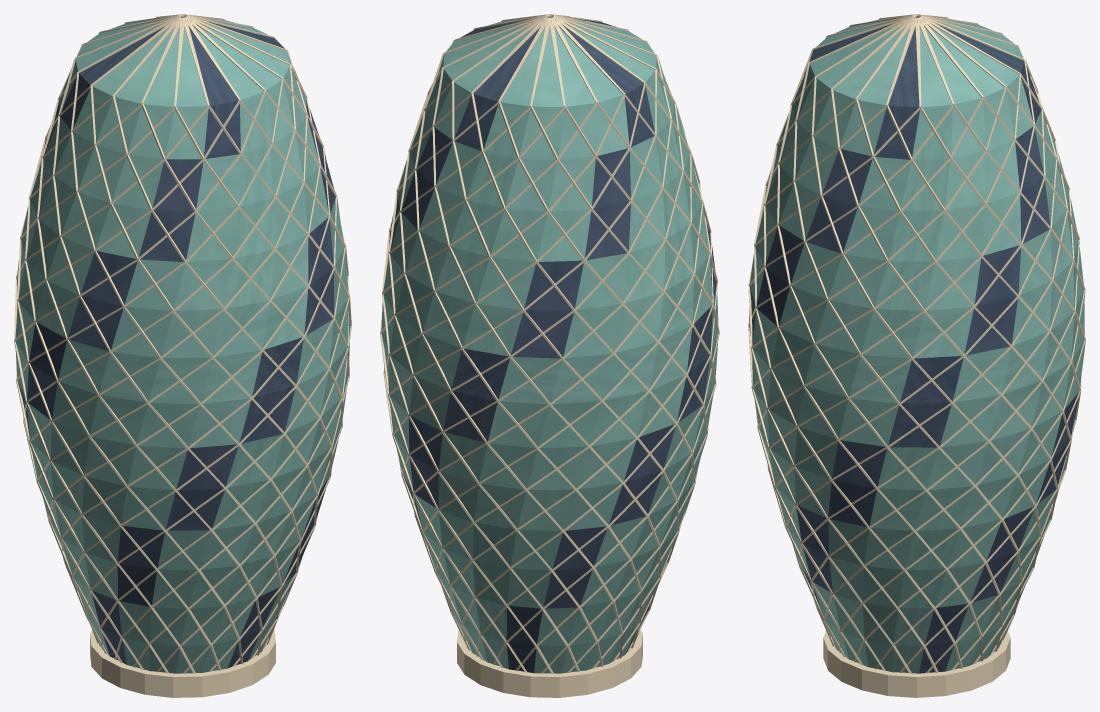
File: the-gherkin.glb
3 views of the same model, side by side, from view 1: azimuth 30°, elevation 25°; view 2: azimuth 150°, elevation 25°; view 3: azimuth 270°, elevation 25° (orthographic).
Visible parts, largest first — view 1: the-gherkin; view 2: the-gherkin; view 3: the-gherkin.
Part boxes in pixels (x1=…): the-gherkin: x1=14, y1=14, x2=351, y2=697; the-gherkin: x1=380, y1=14, x2=719, y2=697; the-gherkin: x1=748, y1=14, x2=1085, y2=697.
Size of the model in its own units: 4.4 by 9.24 by 4.4.
Materials: 1 (1 with a texture image).
